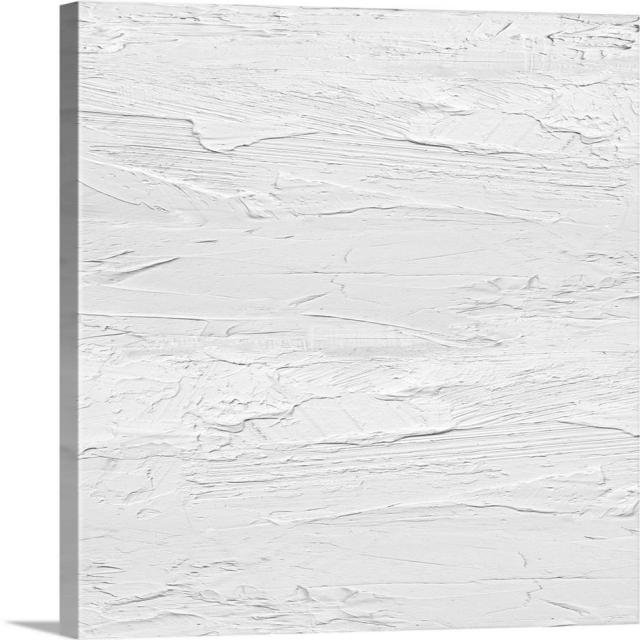trowels marks: (78, 2, 640, 640)
